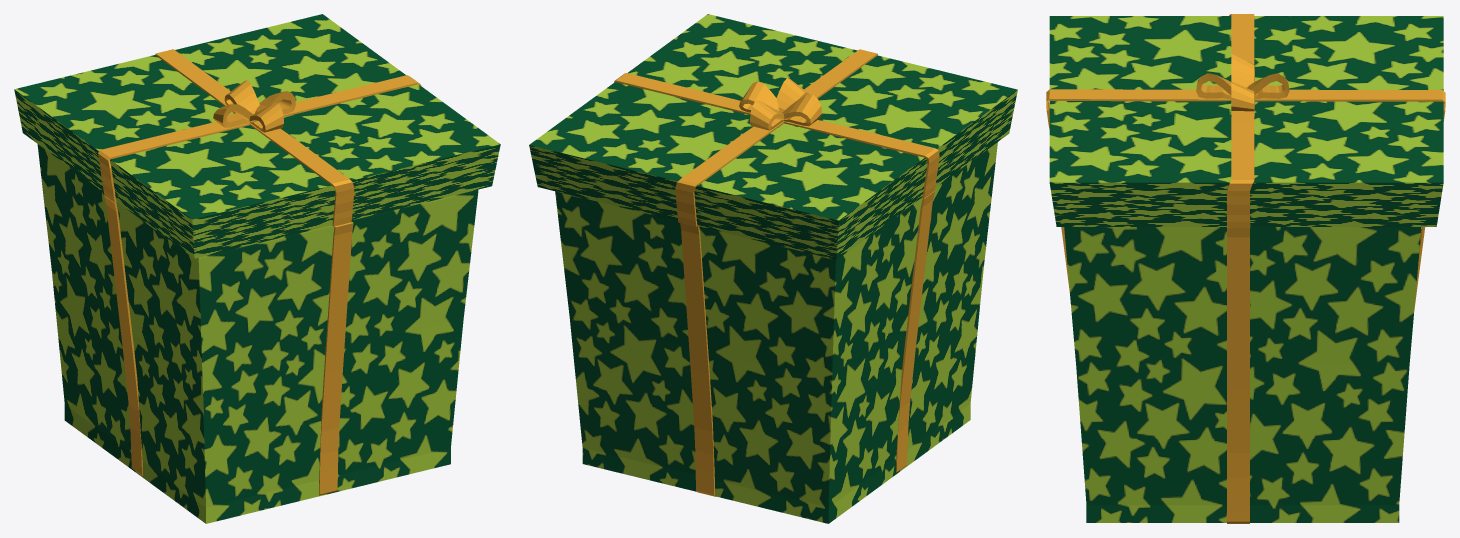
The model's file is giftbox.gltf.
3 renders of one model, left to right at view 1: azimuth 30°, elevation 25°; view 2: azimuth 150°, elevation 25°; view 3: azimuth 270°, elevation 25°, orthographic. The views are drawn at different scales.
Parts seen in each view (by area): view 1: GiftBoxBottm, GiftBoxBottm.001; view 2: GiftBoxBottm, GiftBoxBottm.001; view 3: GiftBoxBottm, GiftBoxBottm.001.
Boxes of the visible parts, <box> form: GiftBoxBottm: <box>37,144,478,523</box>; GiftBoxBottm.001: <box>14,14,500,258</box>; GiftBoxBottm: <box>555,142,997,523</box>; GiftBoxBottm.001: <box>529,14,1017,259</box>; GiftBoxBottm: <box>1061,227,1425,523</box>; GiftBoxBottm.001: <box>1046,14,1445,228</box>.
Bounding box in the file's own units: 1.4 × 1.51 × 1.4.
Materials: 3 (2 with a texture image).
